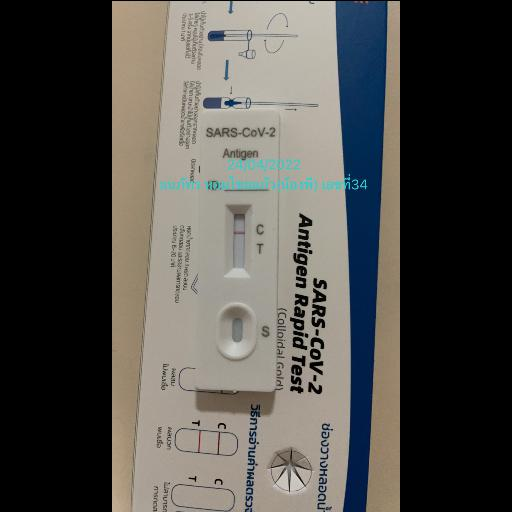Neg: (196, 111, 278, 389)
